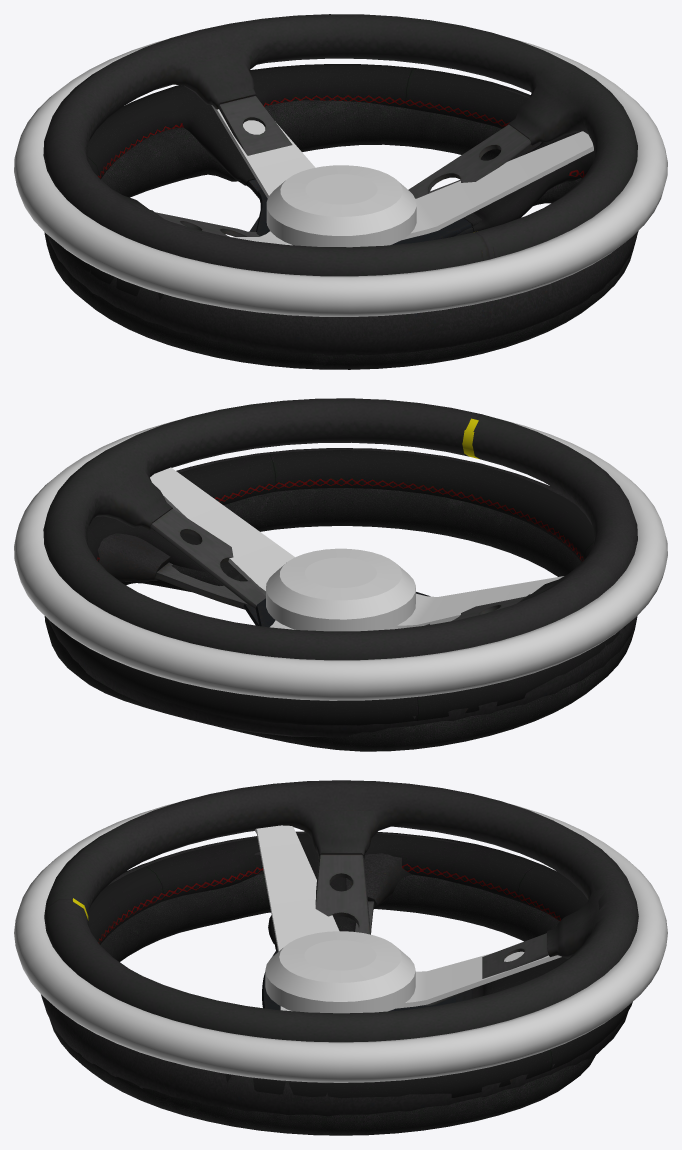
Rendered from steeringwheels.DAE.
3 views of the same model, one above another, from view 1: azimuth 30°, elevation 25°; view 2: azimuth 150°, elevation 25°; view 3: azimuth 270°, elevation 25° (orthographic).
Parts seen in each view (by area): view 1: steer_05a, steer_02a, steer_03a, steer_04a, steer_01a, steer_02b, steer_02c; view 2: steer_05a, steer_02a, steer_04a, steer_03a, steer_01a, steer_02b; view 3: steer_05a, steer_02a, steer_04a, steer_03a, steer_01a, steer_02b.
Boxes of the visible parts, <box> form: steer_05a: <box>14,37,667,316</box>; steer_02a: <box>43,14,637,276</box>; steer_03a: <box>44,100,636,369</box>; steer_04a: <box>54,64,593,300</box>; steer_01a: <box>47,85,638,355</box>; steer_02b: <box>89,36,592,271</box>; steer_02c: <box>160,31,299,61</box>; steer_05a: <box>14,418,667,700</box>; steer_02a: <box>43,398,637,660</box>; steer_04a: <box>49,450,626,725</box>; steer_03a: <box>44,488,637,751</box>; steer_01a: <box>48,448,637,737</box>; steer_02b: <box>89,418,592,529</box>; steer_05a: <box>14,803,667,1082</box>; steer_02a: <box>44,780,638,1042</box>; steer_04a: <box>88,832,632,1098</box>; steer_03a: <box>49,873,595,1135</box>; steer_01a: <box>41,831,628,1116</box>; steer_02b: <box>44,815,592,958</box>.
Size of the model in its own units: 38.4 by 38.4 by 9.91.
